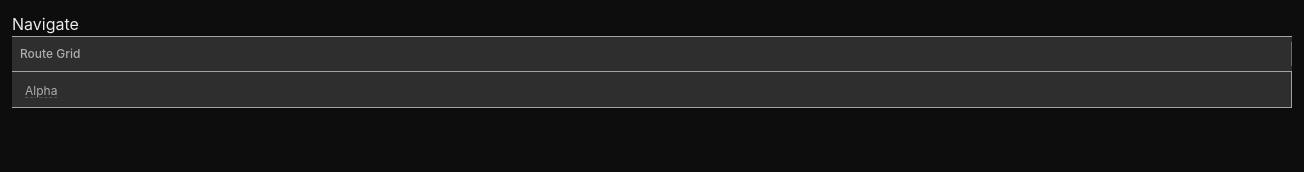
Scenario: DataGrid undo and redo › clears undo history when the route pathname changes
Later steps or results of the test are not shown.
Press the mouse on the field at (652, 90), box x1=20 y1=76 x2=1284 y2=104
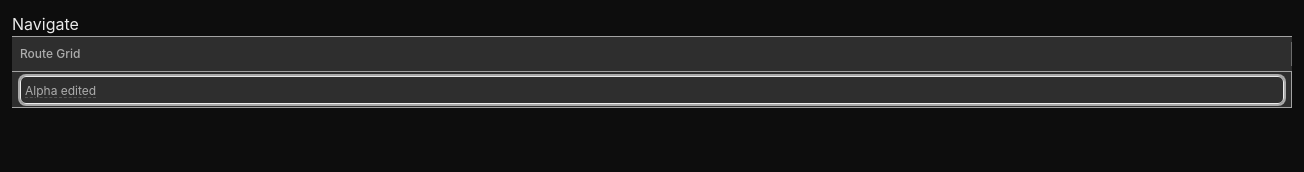
Check: the field has attribute data-grid-editing="true", box x1=20 y1=76 x2=1284 y2=104
